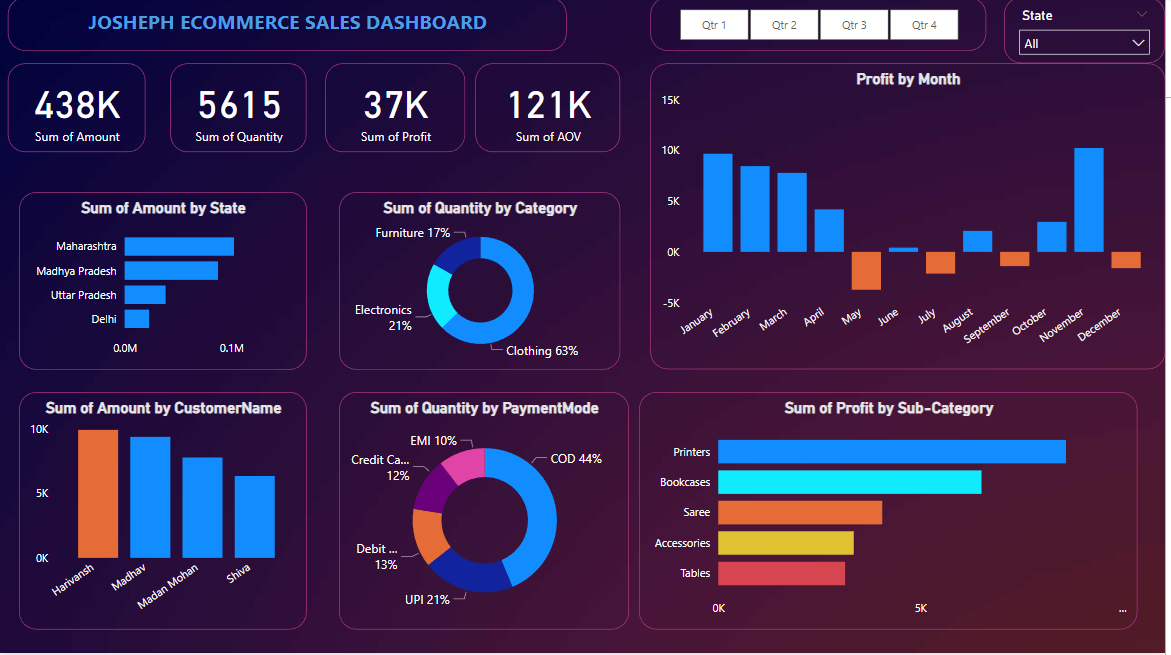

Layout of this report page (visuals, bound fields, positions):
{"tool":"powerbi","page":{"name":"Page 1","canvas":[1280,720],"ordinal":0},"visuals":[{"type":"textbox","box":[9.6,0,613.4,59],"z":0},{"type":"columnChart","title":"Profit by Month","fields":{"Y":["Details.Profit"],"Category":["Orders.Order Date.Variation.Date Hierarchy.Month"]},"box":[714.9,72.7,565.4,336.2],"z":1},{"type":"barChart","fields":{"Y":["Details.Profit"],"Category":["Details.Sub-Category"]},"box":[702.6,433.6,547.5,260.7],"z":2},{"type":"donutChart","fields":{"Category":["Details.Category"],"Y":["Details.Quantity"]},"box":[373.2,214.1,308.7,194.9],"z":3},{"type":"donutChart","fields":{"Y":["Details.Quantity"],"Category":["Details.PaymentMode"]},"box":[373.2,433.6,318.4,260.7],"z":4},{"type":"card","fields":{"Values":["Details.Amount"]},"box":[9.6,72.7,150.9,97.4],"z":5},{"type":"card","fields":{"Values":["Details.Quantity"]},"box":[188,72.7,149.6,97.4],"z":6},{"type":"card","fields":{"Values":["Details.Profit"]},"box":[358.1,72.7,153.7,97.4],"z":7},{"type":"card","fields":{"Values":["Details.AOV"]},"box":[522.8,72.7,159.2,97.4],"z":8},{"type":"barChart","fields":{"Category":["Orders.State"],"Y":["Details.Amount"]},"box":[22,214.1,315.6,194.9],"z":9},{"type":"columnChart","fields":{"Category":["Orders.CustomerName"],"Y":["Details.Amount"]},"box":[22,434,316,261],"z":10},{"type":"slicer","fields":{"Values":["Orders.Order Date.Variation.Date Hierarchy.Quarter"]},"box":[714.9,0,369.1,59],"z":11},{"type":"slicer","fields":{"Values":["Orders.State"]},"box":[1103.3,0,177,72.7],"z":12}]}

Visuals, with their boxes in screenshot pixels (x1, y1, x2, y2), scaled from the page's 1280x720 canvas onto the 1171x655 screenshot:
textbox: (9,0,570,54)
"Profit by Month" columnChart: (654,66,1170,372)
barChart - Details.Profit x Details.Sub-Category: (643,394,1144,632)
donutChart - Details.Category x Details.Quantity: (341,195,624,372)
donutChart - Details.Quantity x Details.PaymentMode: (341,394,633,632)
card - Details.Amount: (9,66,147,155)
card - Details.Quantity: (172,66,309,155)
card - Details.Profit: (328,66,468,155)
card - Details.AOV: (478,66,624,155)
barChart - Orders.State x Details.Amount: (20,195,309,372)
columnChart - Orders.CustomerName x Details.Amount: (20,395,309,632)
slicer - Orders.Order Date.Variation.Date Hierarchy.Quarter: (654,0,992,54)
slicer - Orders.State: (1009,0,1170,66)
